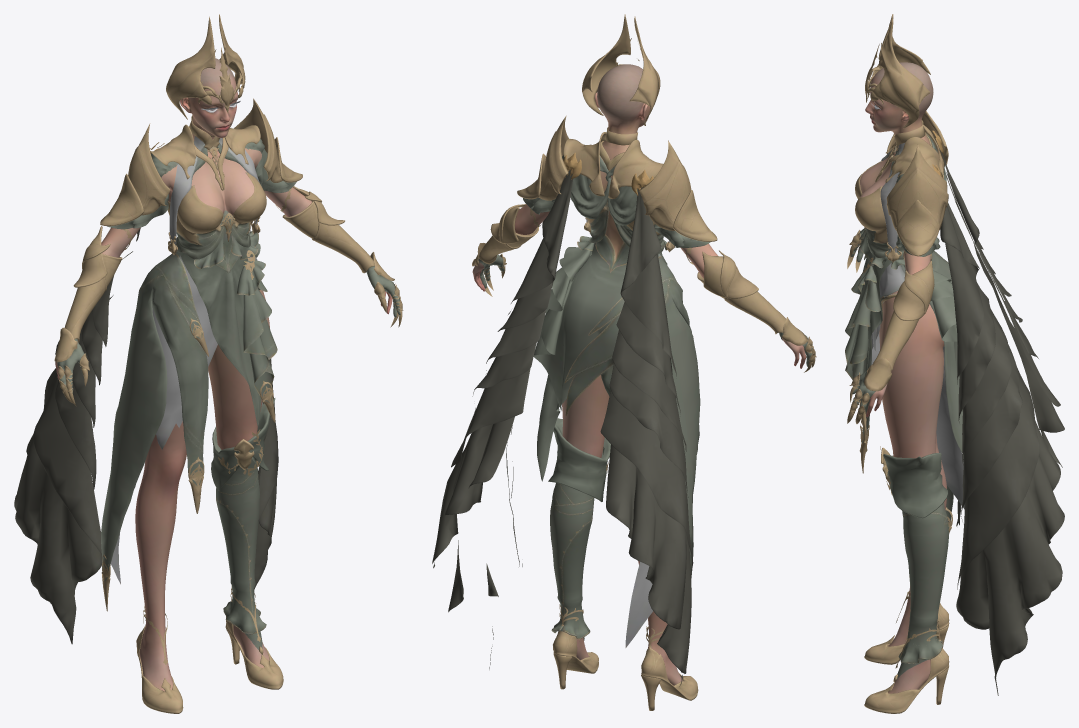
3 views of the same model, side by side, from view 1: azimuth 30°, elevation 25°; view 2: azimuth 150°, elevation 25°; view 3: azimuth 270°, elevation 25° (orthographic).
Visible parts, largest first — view 1: GF_0007_T05_Body, GF_0007_T05_Cape, GF_0007_T05_Pants, GF_0007_T05_Boots, GF_0007_T05_Glove, GF_0007_T05_Shoulder, GF_0007_T05_Helmet, GF_BaseHead; view 2: GF_0007_T05_Cape, GF_0007_T05_Body, GF_0007_T05_Boots, GF_0007_T05_Glove, GF_0007_T05_Shoulder, GF_0007_T05_Pants, GF_BaseHead, GF_0007_T05_Helmet; view 3: GF_0007_T05_Cape, GF_0007_T05_Body, GF_0007_T05_Boots, GF_0007_T05_Pants, GF_0007_T05_Shoulder, GF_0007_T05_Glove, GF_0007_T05_Helmet, GF_BaseHead.
Boxes of the visible parts, x1,y1,x2,y2 form: GF_0007_T05_Body: (55,115,392,611); GF_0007_T05_Cape: (14,127,278,644); GF_0007_T05_Pants: (135,290,269,691); GF_0007_T05_Boots: (136,398,283,713); GF_0007_T05_Glove: (54,186,403,406); GF_0007_T05_Shoulder: (100,98,302,226); GF_0007_T05_Helmet: (166,14,245,119); GF_BaseHead: (180,58,240,140); GF_0007_T05_Cape: (432,152,693,686); GF_0007_T05_Body: (472,127,806,647); GF_0007_T05_Boots: (548,418,698,710); GF_0007_T05_Glove: (472,204,816,372); GF_0007_T05_Shoulder: (517,115,717,241); GF_0007_T05_Pants: (562,375,683,685); GF_BaseHead: (594,64,650,150); GF_0007_T05_Helmet: (582,14,660,125); GF_0007_T05_Cape: (932,130,1064,695); GF_0007_T05_Body: (845,120,964,533); GF_0007_T05_Boots: (864,446,949,713); GF_0007_T05_Pants: (879,291,946,693); GF_0007_T05_Shoulder: (886,111,948,256); GF_0007_T05_Glove: (847,227,934,423); GF_0007_T05_Helmet: (865,14,930,128); GF_BaseHead: (865,62,933,147).
Bounding box in the file's own units: 1.04 × 1.97 × 0.5886.
Materials: 10 (9 with a texture image).
